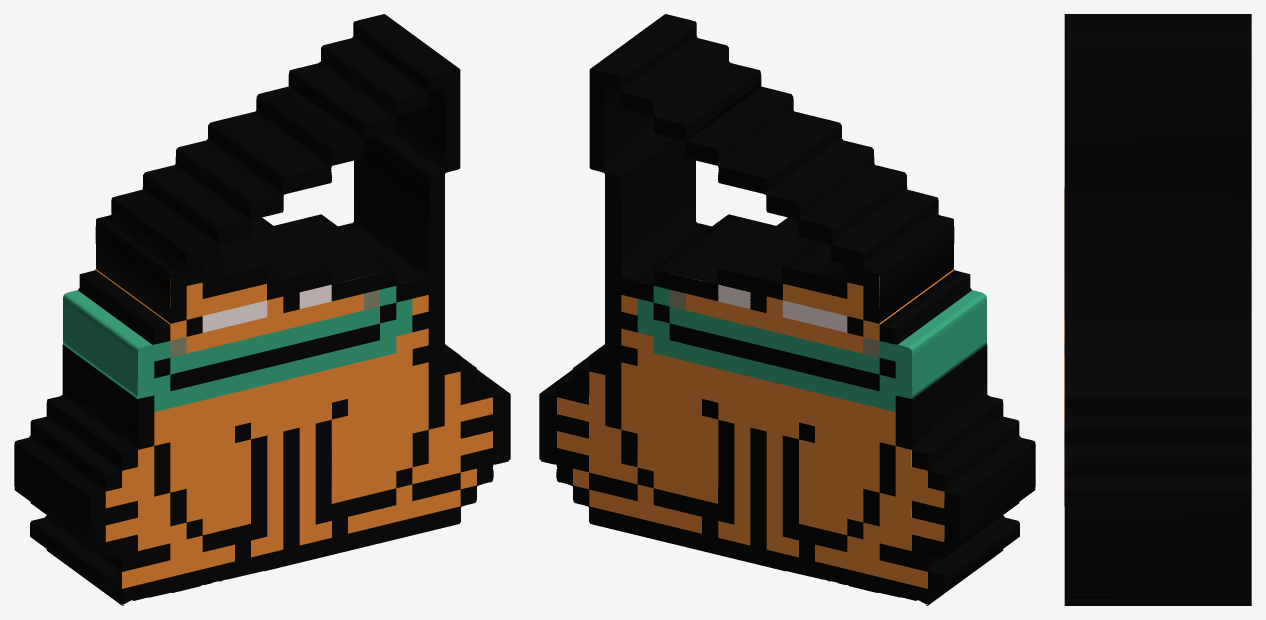
Rendered from Toadz_1119.glb.
The picture shows the model from 3 angles, left to right: view 1: azimuth 30°, elevation 25°; view 2: azimuth 150°, elevation 25°; view 3: azimuth 270°, elevation 25°; orthographic projection. The views are drawn at different scales.
Parts seen in each view (by area): view 1: Curve; view 2: Curve; view 3: Curve.
Part boxes in pixels (bbox=[...]): Curve: bbox=[14, 14, 510, 605]; Curve: bbox=[539, 14, 1035, 605]; Curve: bbox=[1064, 14, 1251, 605].
Bounding box in the file's own units: 3.25 × 3.36 × 1.
